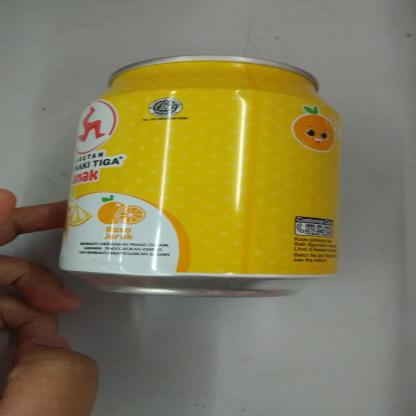mouse: (48, 52, 350, 303)
